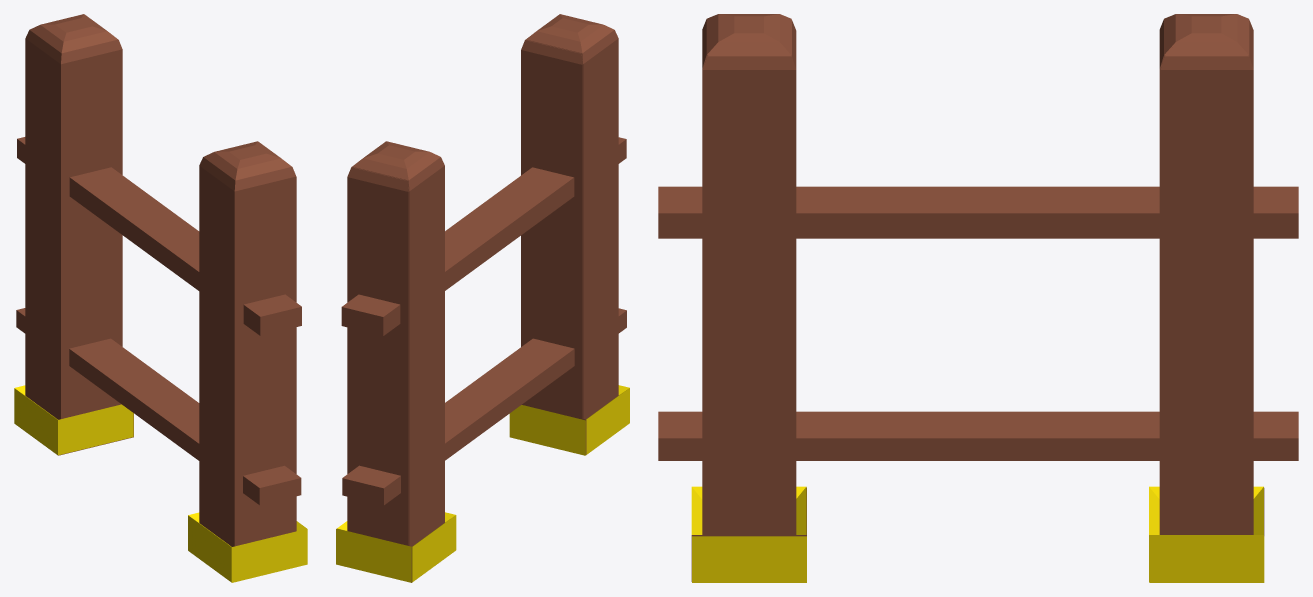
The model's file is ladder_top.fbx.
3 views of the same model, side by side, from view 1: azimuth 30°, elevation 25°; view 2: azimuth 150°, elevation 25°; view 3: azimuth 270°, elevation 25° (orthographic). The views are drawn at different scales.
Parts seen in each view (by area): view 1: Ladder_Top; view 2: Ladder_Top; view 3: Ladder_Top.
Boxes of the visible parts, x1,y1,x2,y2 form: Ladder_Top: (14, 14, 307, 582); Ladder_Top: (336, 14, 629, 582); Ladder_Top: (658, 14, 1298, 582).
Bounding box in the file's own units: 41.66 × 212 × 230.
